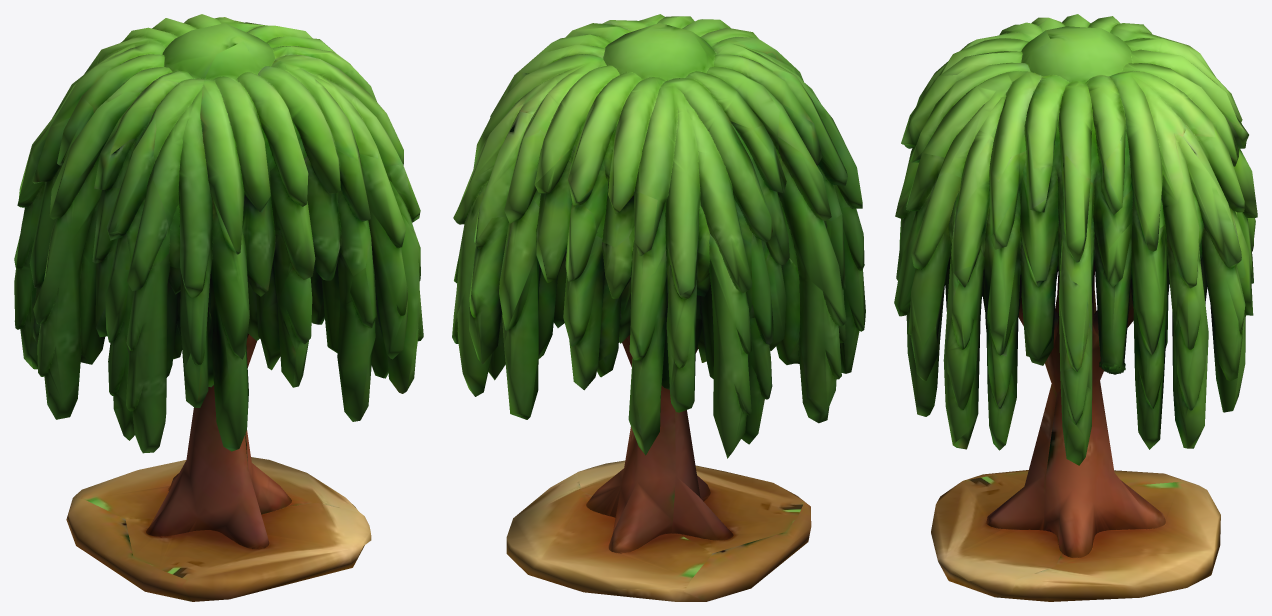
The model's file is willow_pbr.glb.
3 renders of one model, left to right at view 1: azimuth 30°, elevation 25°; view 2: azimuth 150°, elevation 25°; view 3: azimuth 270°, elevation 25°, orthographic.
Parts seen in each view (by area): view 1: model; view 2: model; view 3: model.
Boxes of the visible parts, x1,y1,x2,y2 form: model: (14,14,423,601); model: (452,14,865,601); model: (894,14,1257,601).
Size of the model in its own units: 1.43 by 1.87 by 1.2.
1 material, 1 textured.
